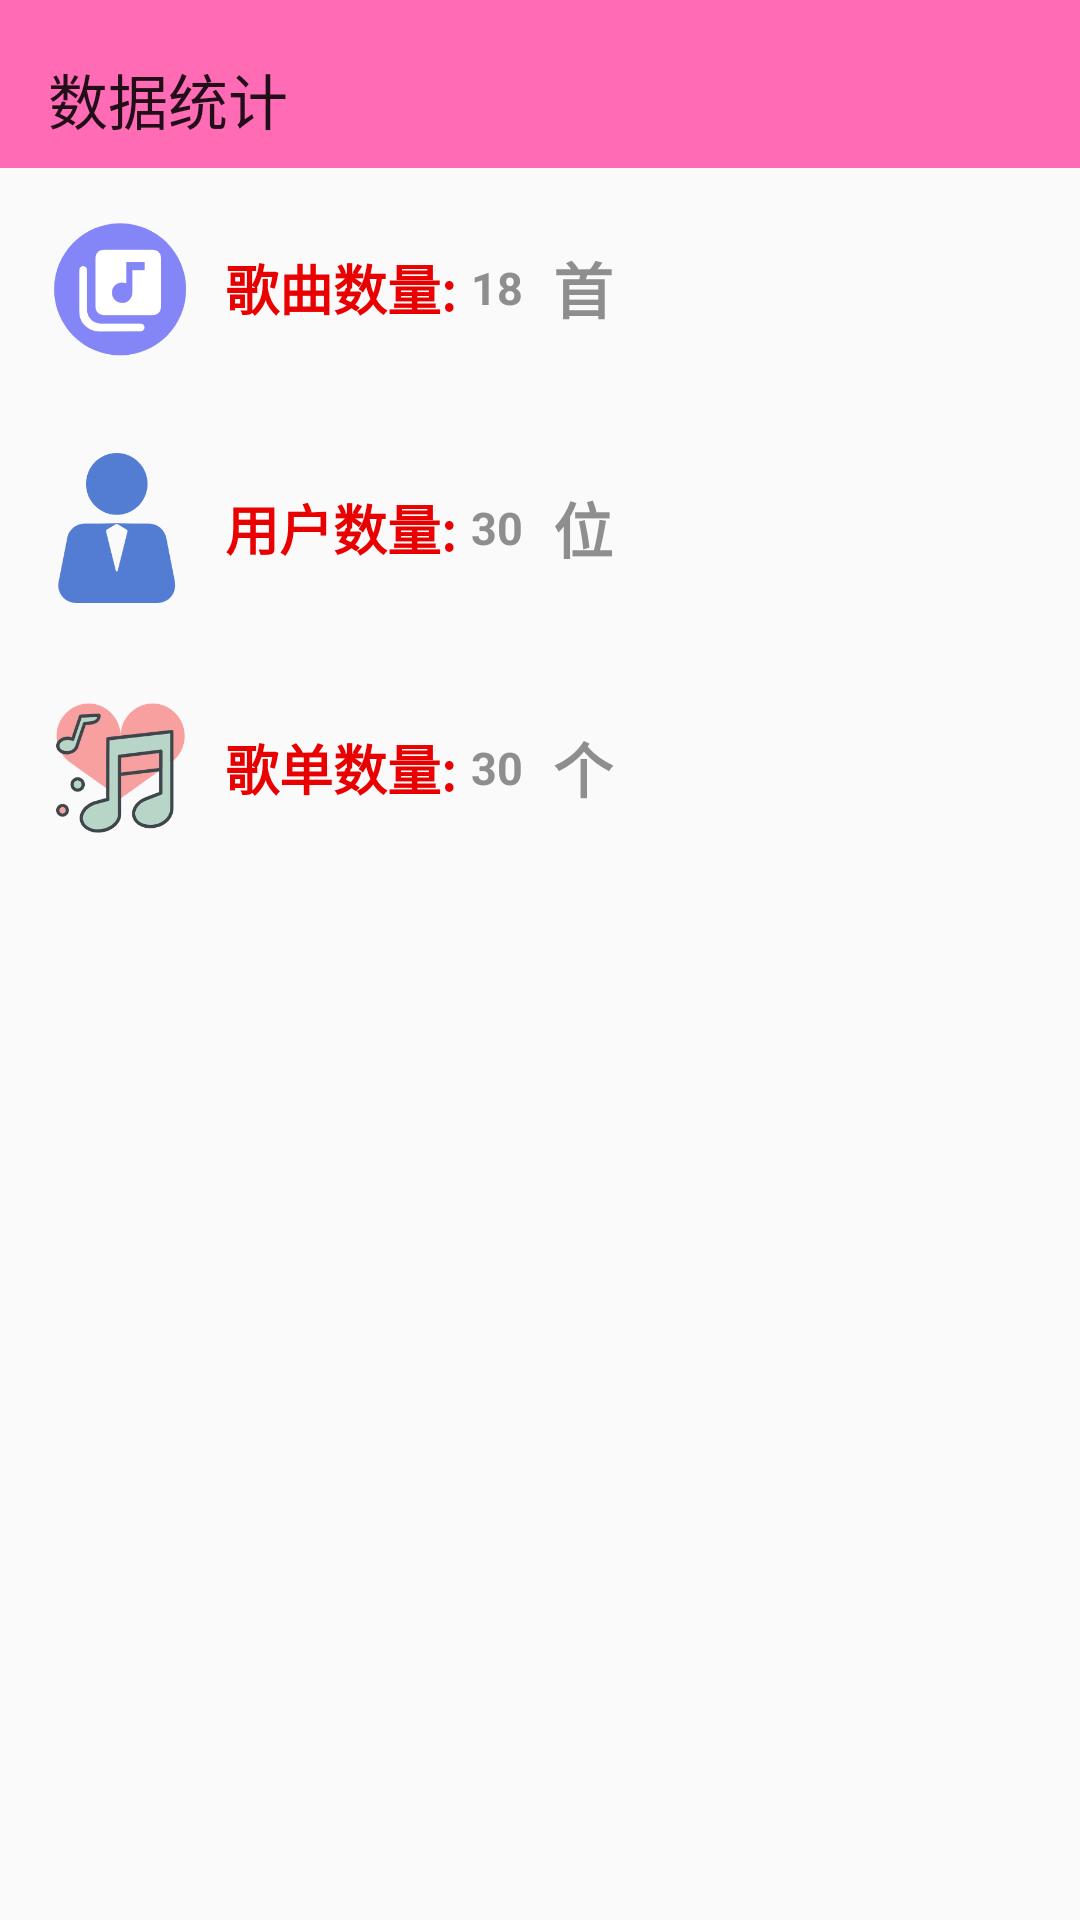

Icon click points for this 1080×1920 phone screenshot, format point (x, y):
static music count: point (120, 289)
static music sheet: point (120, 768)
static user count: point (117, 528)
